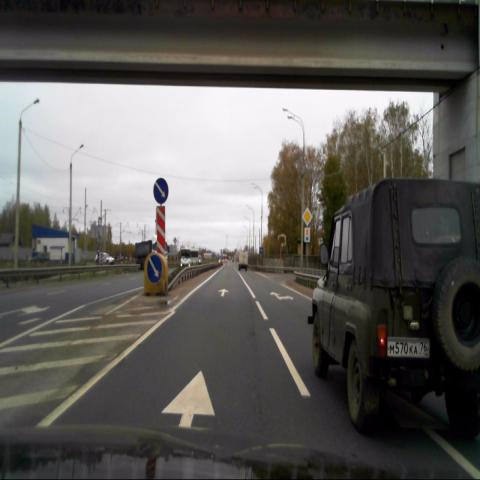4_2_1: (153, 177, 168, 204)
